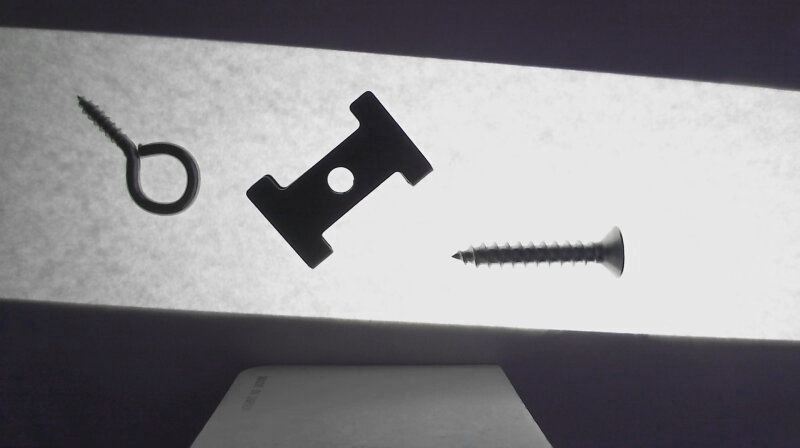O001: (76, 93, 201, 215)
O002: (244, 89, 432, 270)
S001: (448, 226, 626, 283)
